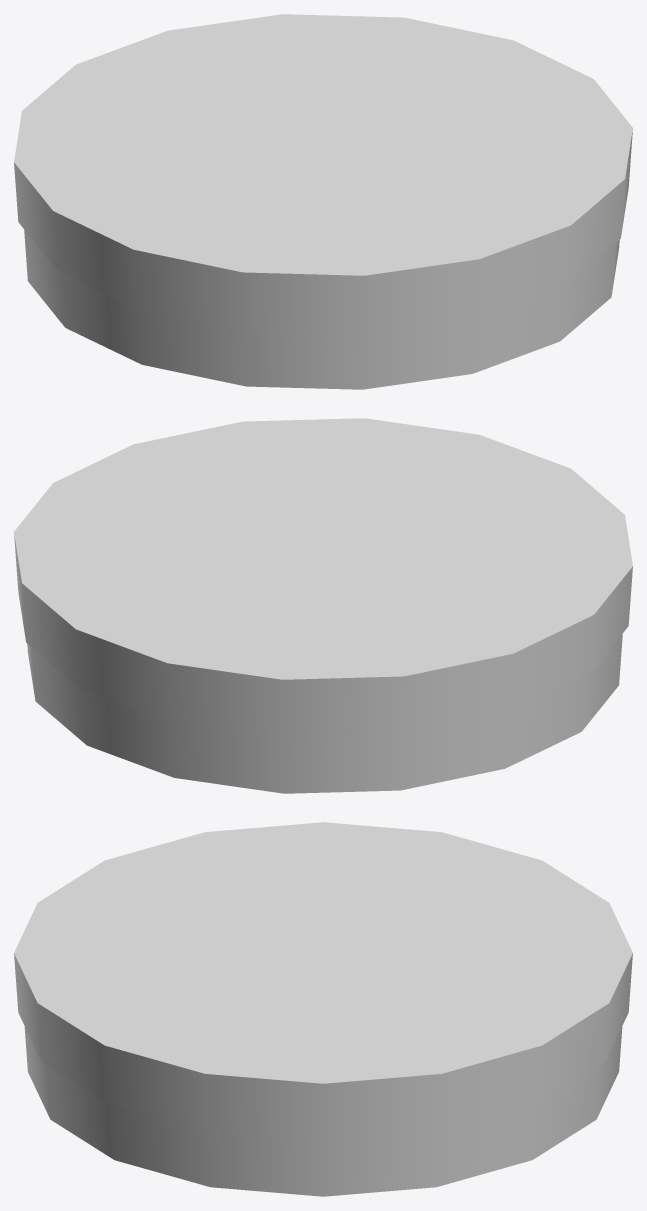
File: LC_3025_Smokedetector_LOD2.FBX
3 views of the same model, one above another, from view 1: azimuth 30°, elevation 25°; view 2: azimuth 150°, elevation 25°; view 3: azimuth 270°, elevation 25° (orthographic).
Visible parts, largest first — view 1: LC_3025_Smokedetector_LOD2; view 2: LC_3025_Smokedetector_LOD2; view 3: LC_3025_Smokedetector_LOD2.
Boxes of the visible parts, left/top/right/bottom form: LC_3025_Smokedetector_LOD2: left=14, top=14, right=632, bottom=389; LC_3025_Smokedetector_LOD2: left=14, top=418, right=632, bottom=793; LC_3025_Smokedetector_LOD2: left=14, top=822, right=632, bottom=1196.
Size of the model in its own units: 24.22 by 8.01 by 24.22.
Materials: 1 (1 with a texture image).
